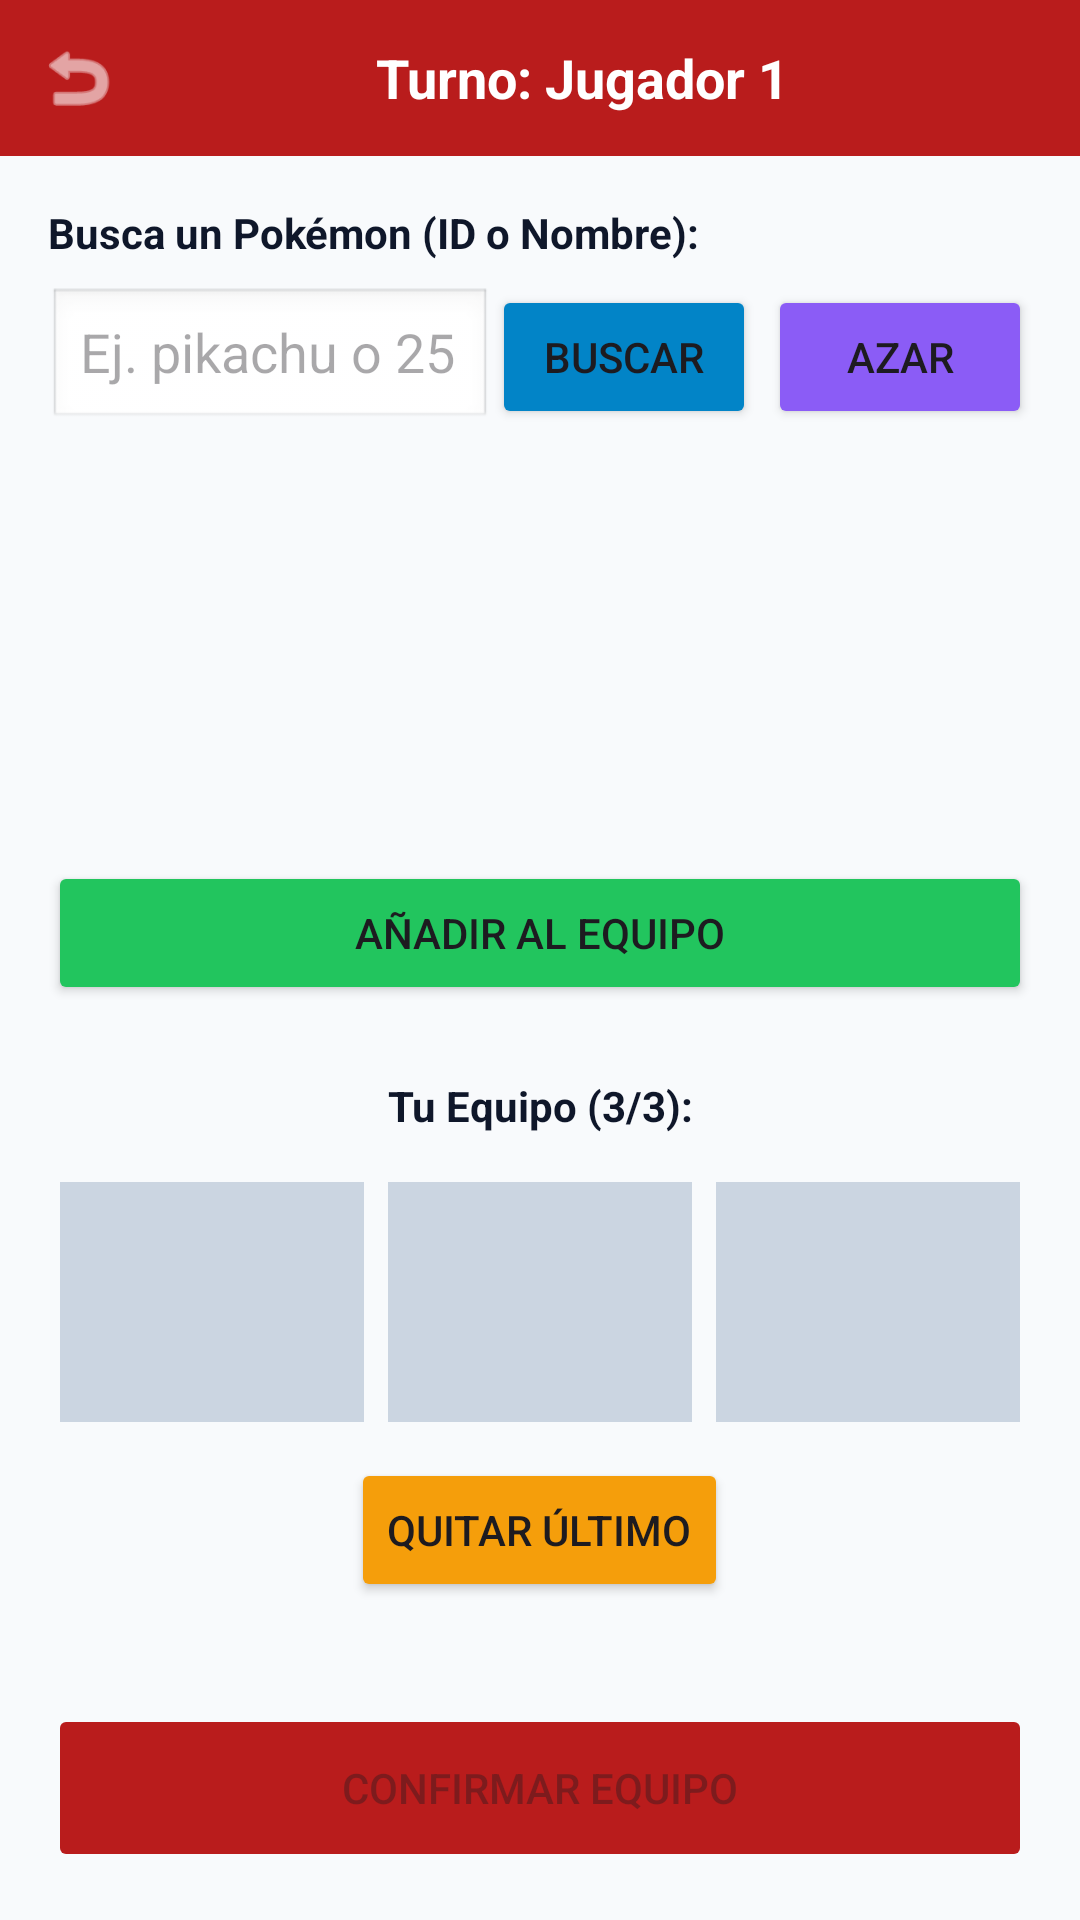

Named icons in this screenshot (1080 x 1920) and their bounding boxes, (x1, y1, x2, y2):
revert: (49, 51, 109, 106)
